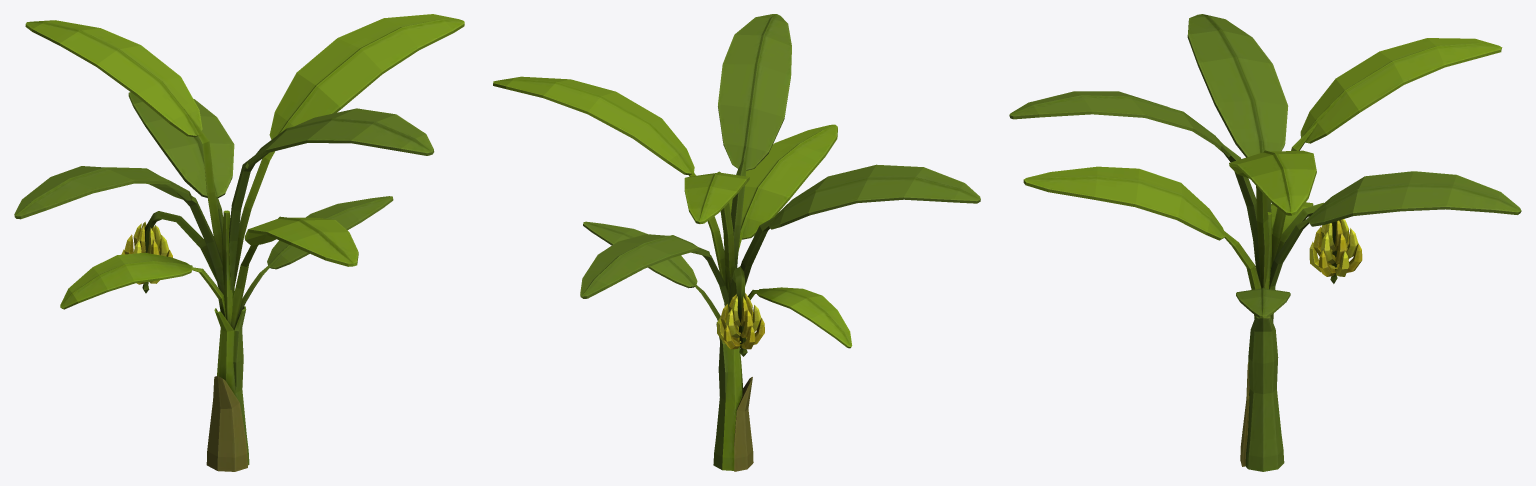
Rendered from banana.glb.
3 renders of one model, left to right at view 1: azimuth 30°, elevation 25°; view 2: azimuth 150°, elevation 25°; view 3: azimuth 270°, elevation 25°, orthographic. The views are drawn at different scales.
Parts seen in each view (by area): view 1: BananaTree_mesh; view 2: BananaTree_mesh; view 3: BananaTree_mesh.
Boxes of the visible parts, x1,y1,x2,y2 form: BananaTree_mesh: [14, 14, 464, 471]; BananaTree_mesh: [493, 14, 980, 471]; BananaTree_mesh: [1009, 14, 1521, 471].
Size of the model in its own units: 18.04 by 13.74 by 16.16.
1 material, 1 textured.
